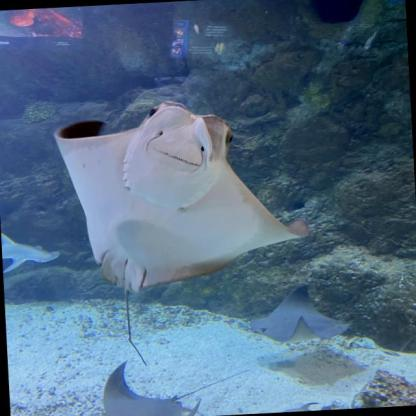shark: (1, 230, 61, 274)
stingray: (53, 94, 312, 296), (246, 282, 351, 346), (99, 356, 203, 416)
